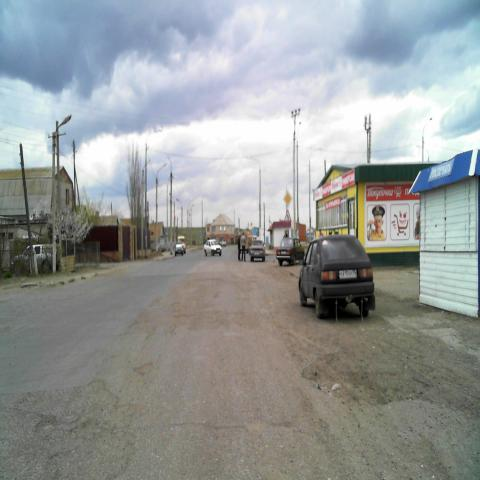1_11_1: (283, 210, 292, 222)
